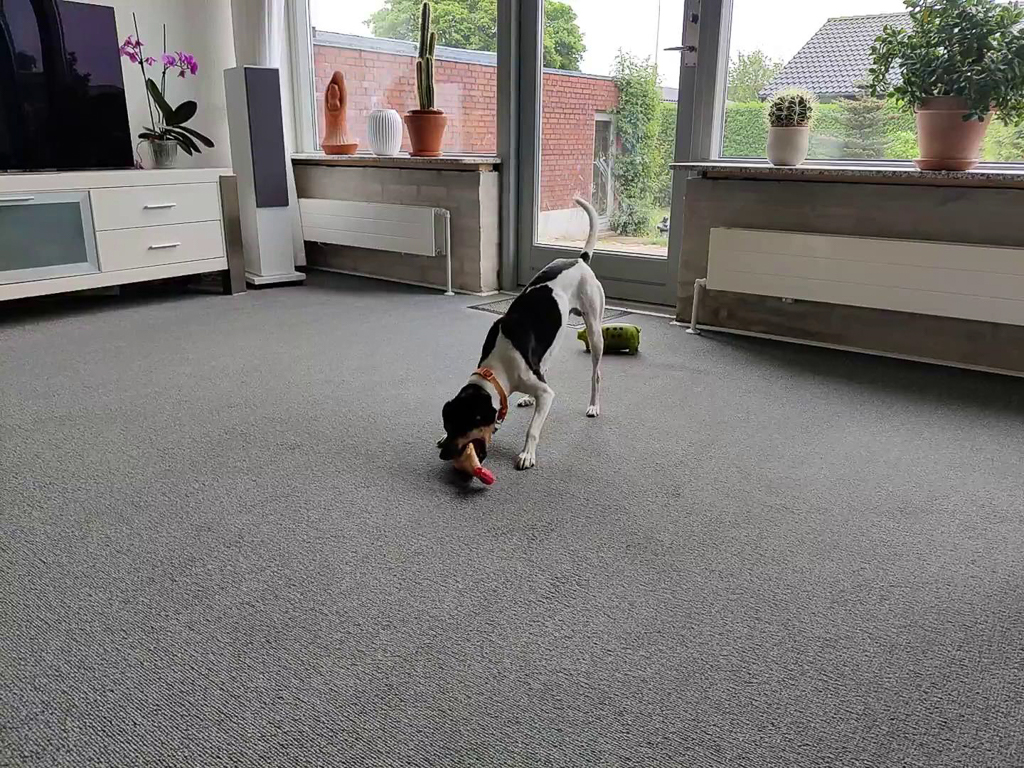Dog: (430, 192, 625, 479)
Humanoid: (312, 68, 364, 146), (654, 213, 671, 240)
